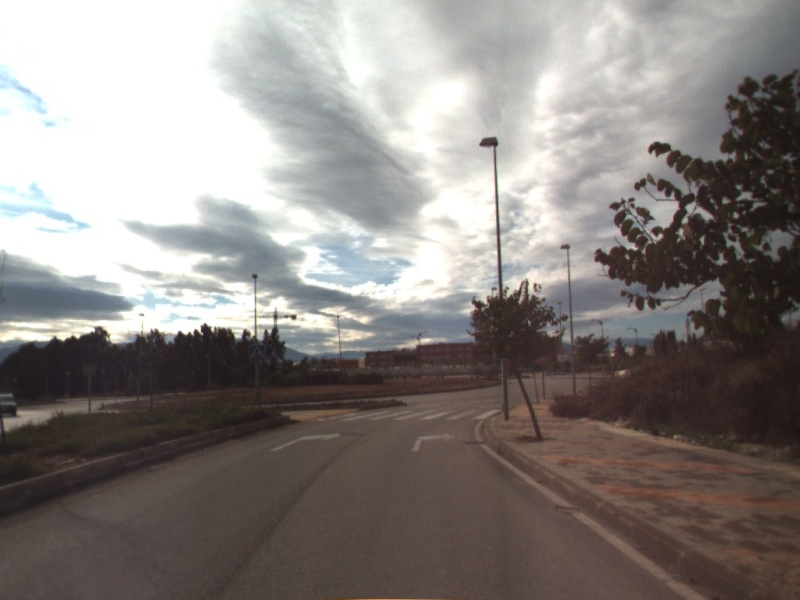RIGHT: (269, 429, 342, 453), (410, 430, 457, 453)
